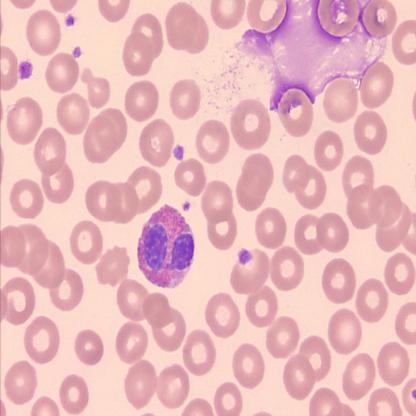Eosinophil: (133, 203, 197, 287)
